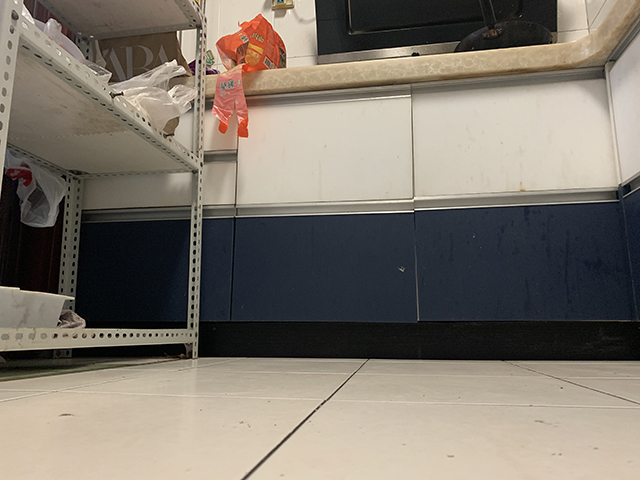cabinet: (200, 37, 634, 359)
